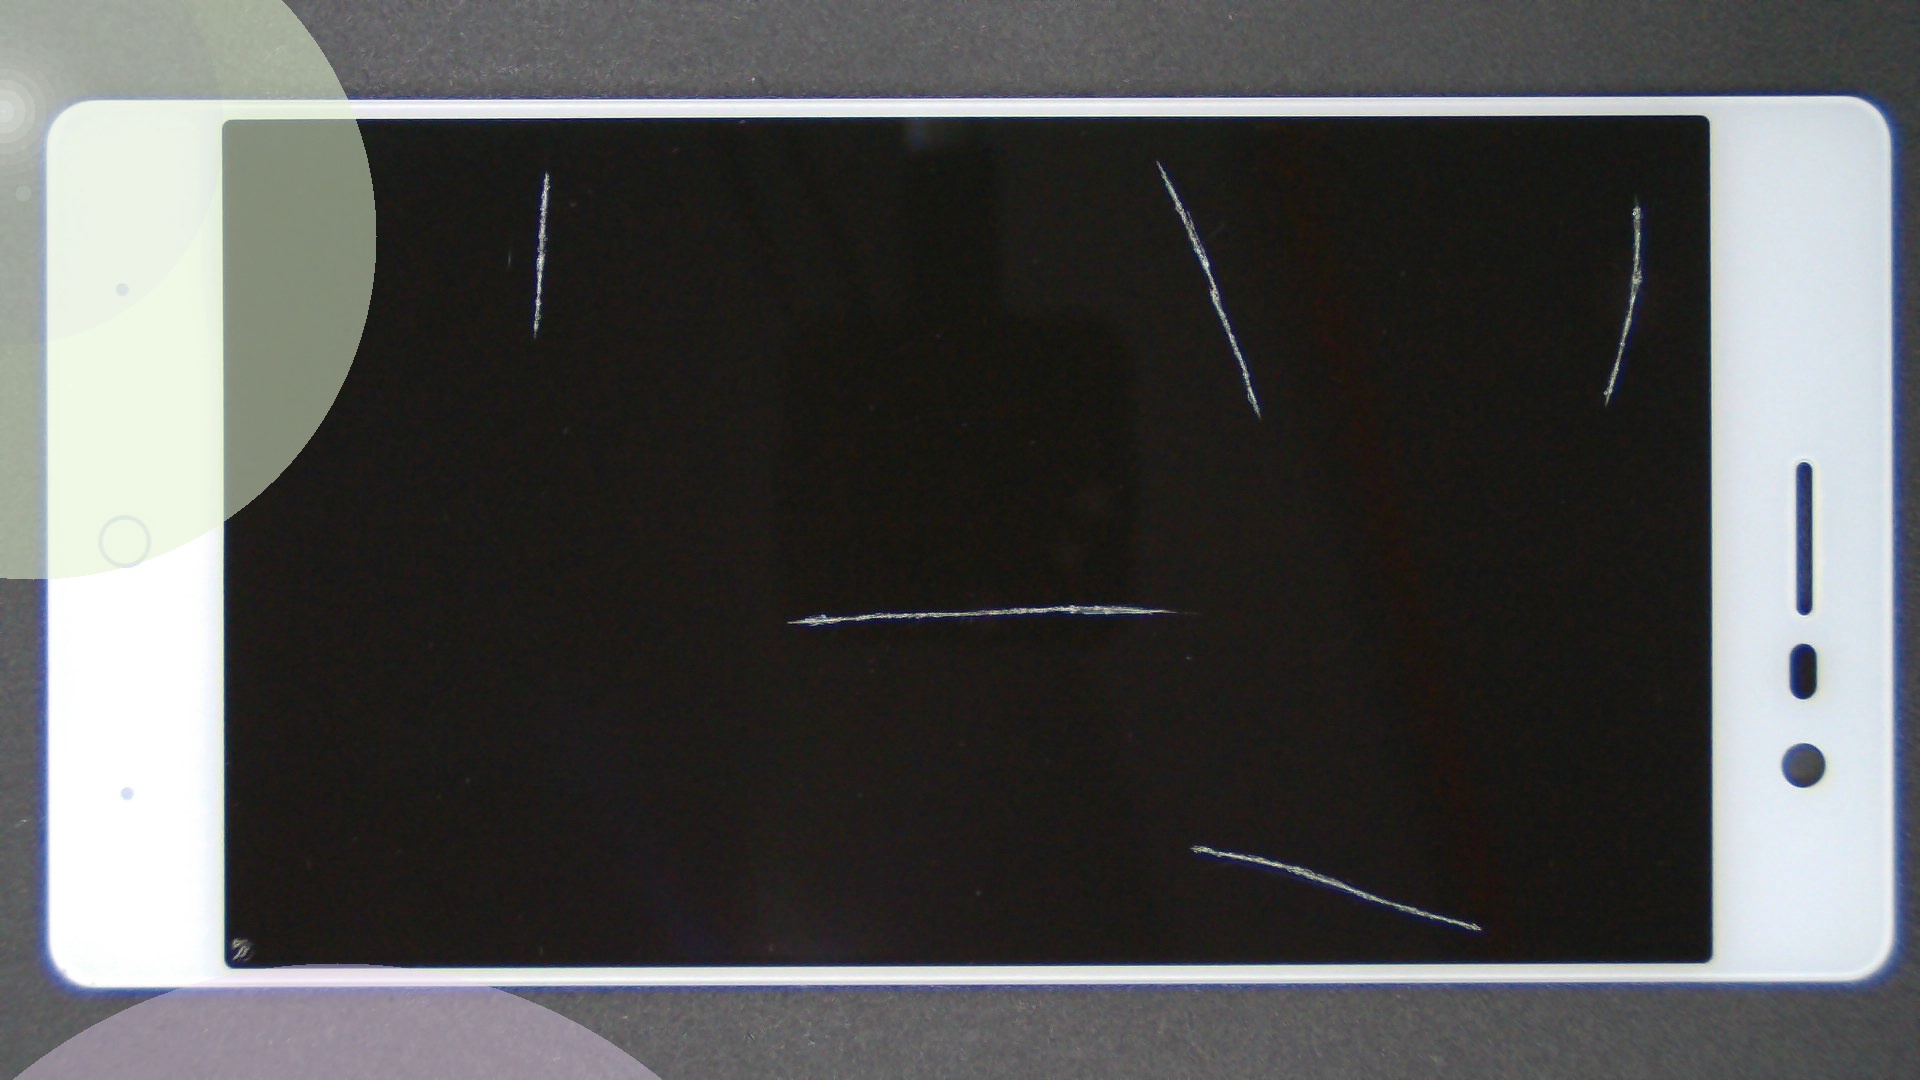oil: (596, 422, 1788, 1080), (535, 302, 1606, 906), (818, 96, 1920, 295), (578, 79, 1734, 241), (117, 468, 349, 1080), (272, 84, 816, 260)
